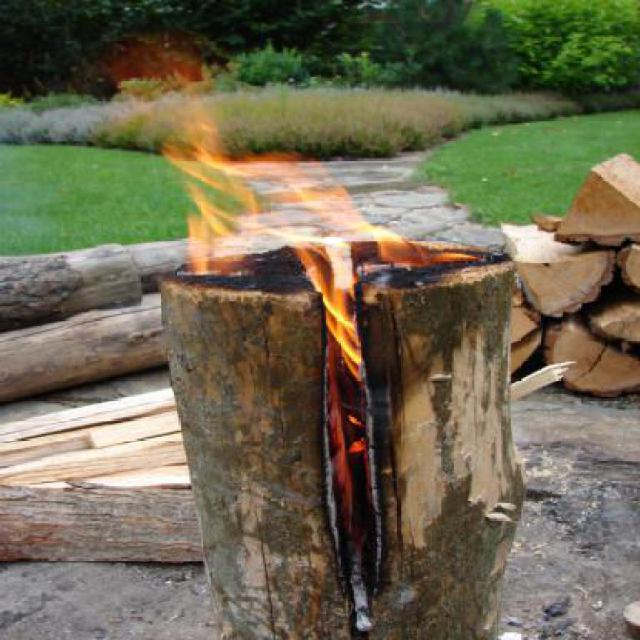fire: (137, 62, 508, 275)
